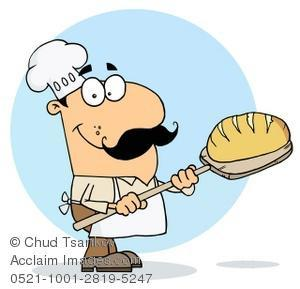person: (44, 61, 199, 271)
